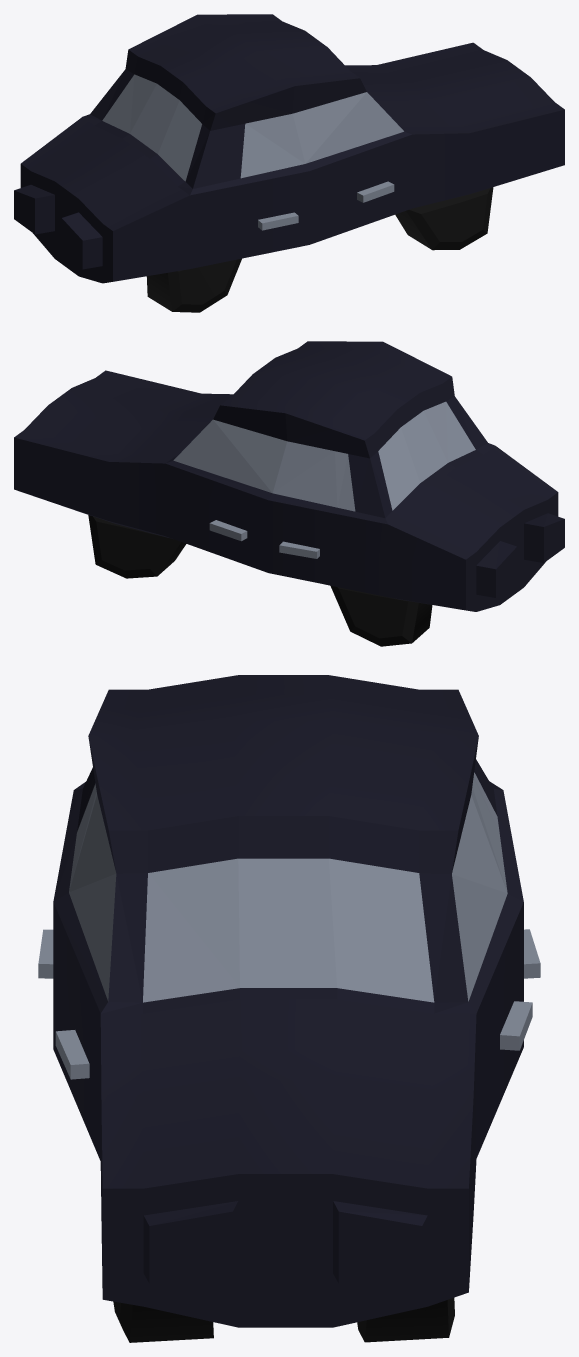
The model's file is ShittyCar1.FBX.
The picture shows the model from 3 angles, top to bottom: view 1: azimuth 30°, elevation 25°; view 2: azimuth 150°, elevation 25°; view 3: azimuth 270°, elevation 25°; orthographic projection. The views are drawn at different scales.
Parts seen in each view (by area): view 1: Cylinder001; view 2: Cylinder001; view 3: Cylinder001.
Boxes of the visible parts, x1,y1,x2,y2 form: Cylinder001: (14, 14, 564, 312); Cylinder001: (14, 341, 564, 646); Cylinder001: (38, 675, 540, 1342).
Bounding box in the file's own units: 2.58 × 1.14 × 1.17.
